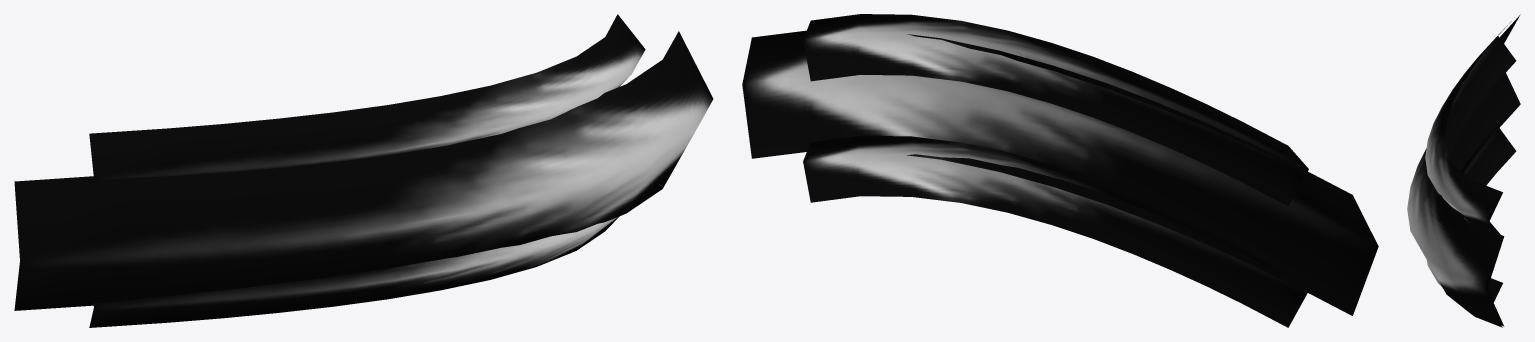
The model's file is scratch.glb.
3 renders of one model, left to right at view 1: azimuth 30°, elevation 25°; view 2: azimuth 150°, elevation 25°; view 3: azimuth 270°, elevation 25°, orthographic. The views are drawn at different scales.
Parts seen in each view (by area): view 1: polygon0; view 2: polygon0; view 3: polygon0.
Part boxes in pixels (x1,y1,x2,y2): polygon0: (14,14,713,327); polygon0: (742,14,1378,327); polygon0: (1407,14,1520,327).
Size of the model in its own units: 22.17 by 6 by 4.56.
Materials: 1 (1 with a texture image).
